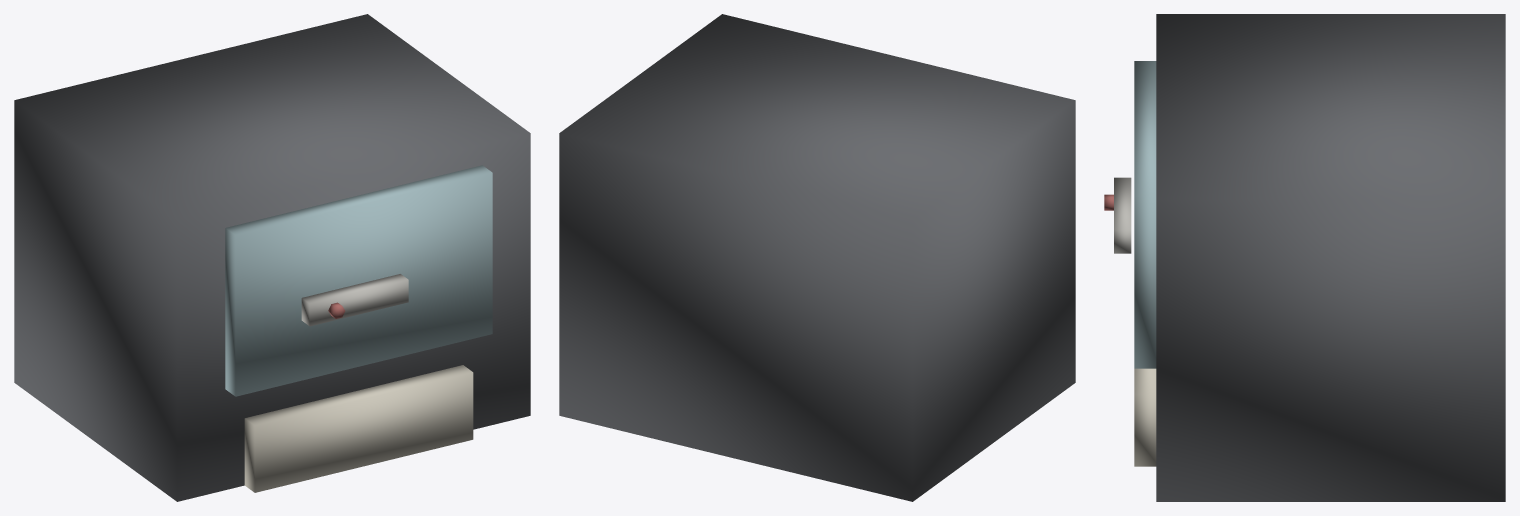
Rendered from flat_monitor__deep.glb.
The picture shows the model from 3 angles, left to right: view 1: azimuth 30°, elevation 25°; view 2: azimuth 150°, elevation 25°; view 3: azimuth 270°, elevation 25°; orthographic projection. The views are drawn at different scales.
Parts seen in each view (by area): view 1: world; view 2: world; view 3: world.
Boxes of the visible parts, box(x1,y1,x2,y2) form: world: box(14, 14, 530, 501); world: box(559, 14, 1075, 501); world: box(1104, 14, 1505, 501).
Bounding box in the file's own units: 0.55 × 0.42 × 0.5045.
